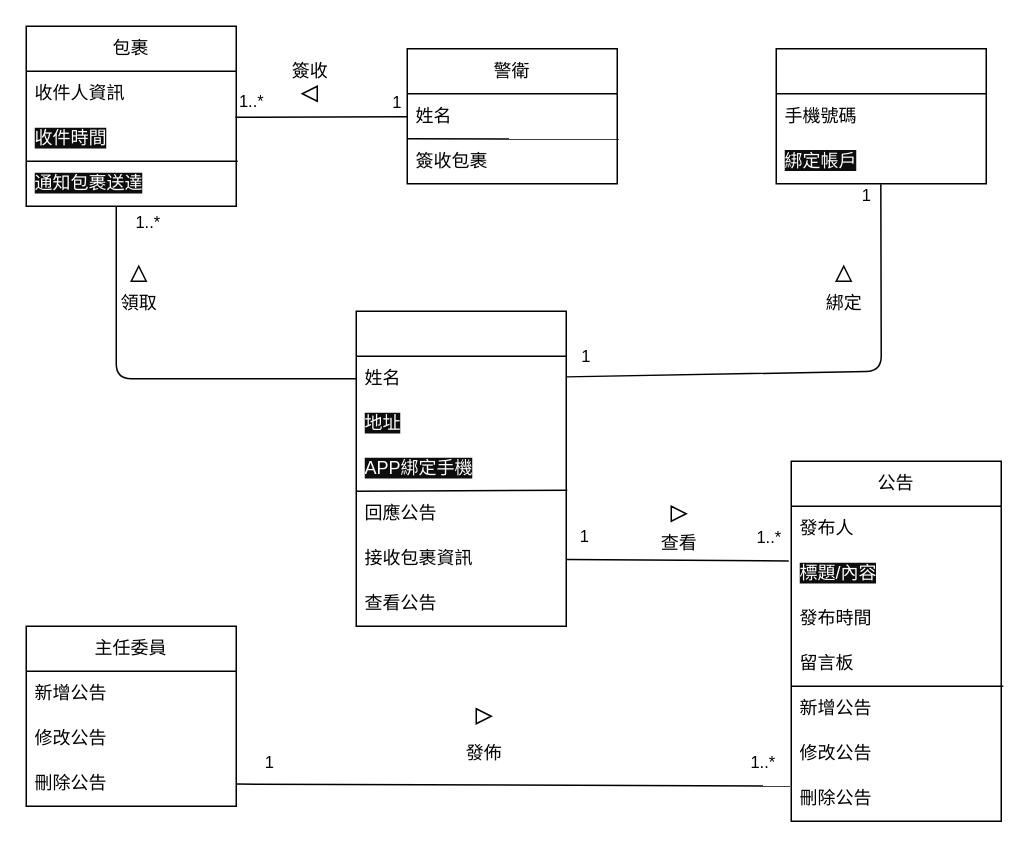
Image size: 1032x848. Some labels were removed from this diagram. Here are the shapes that lost their labels. From the top down, the box of each, then its label:
(775, 47, 986, 184): 手機
(355, 310, 566, 626): 住戶
